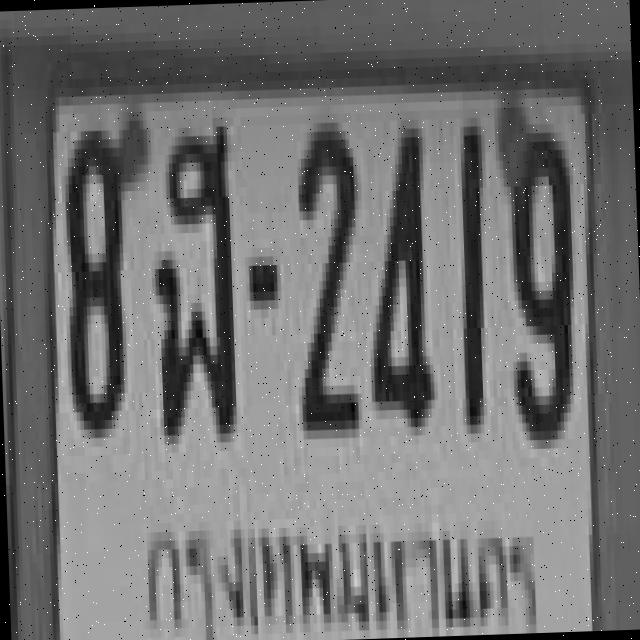1: (452, 116, 488, 424)
2: (289, 114, 362, 430)
4: (360, 120, 430, 420)
51LorChula: (148, 117, 235, 436)
8: (59, 112, 150, 430)
9: (500, 114, 574, 440)
Bangkok: (130, 494, 541, 640)
